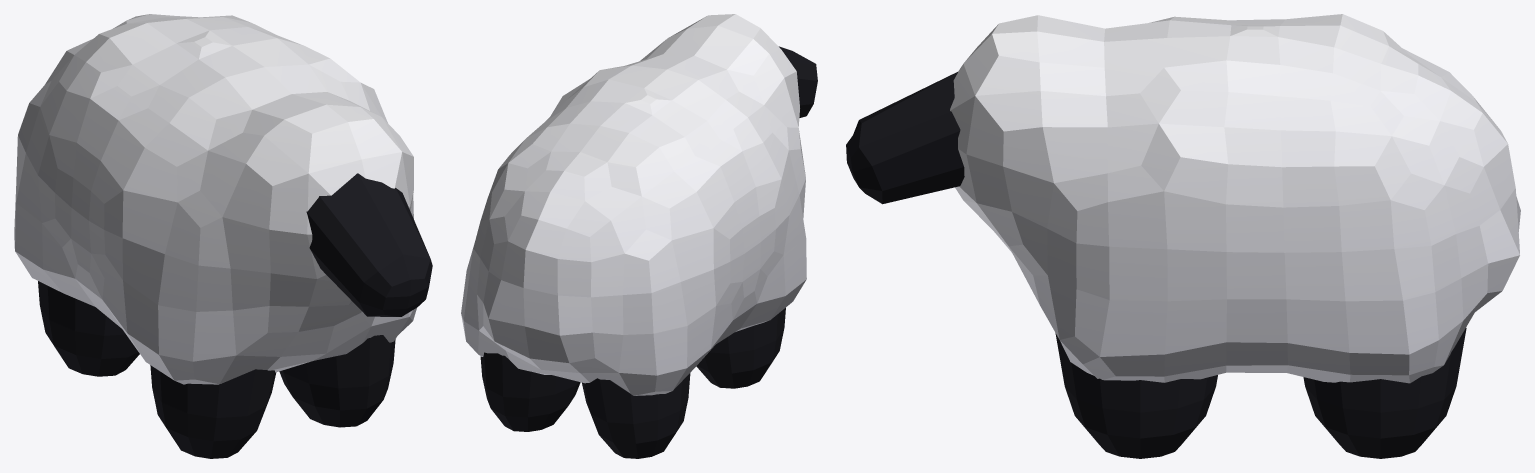
File: Herbivore.fbx
3 renders of one model, left to right at view 1: azimuth 30°, elevation 25°; view 2: azimuth 150°, elevation 25°; view 3: azimuth 270°, elevation 25°, orthographic. The views are drawn at different scales.
Visible parts, largest first — view 1: Prey; view 2: Prey; view 3: Prey.
Boxes of the visible parts, x1=… form: Prey: x1=14, y1=14, x2=432, y2=458; Prey: x1=461, y1=14, x2=817, y2=458; Prey: x1=846, y1=14, x2=1520, y2=458.
Size of the model in its own units: 100 by 125 by 200.
